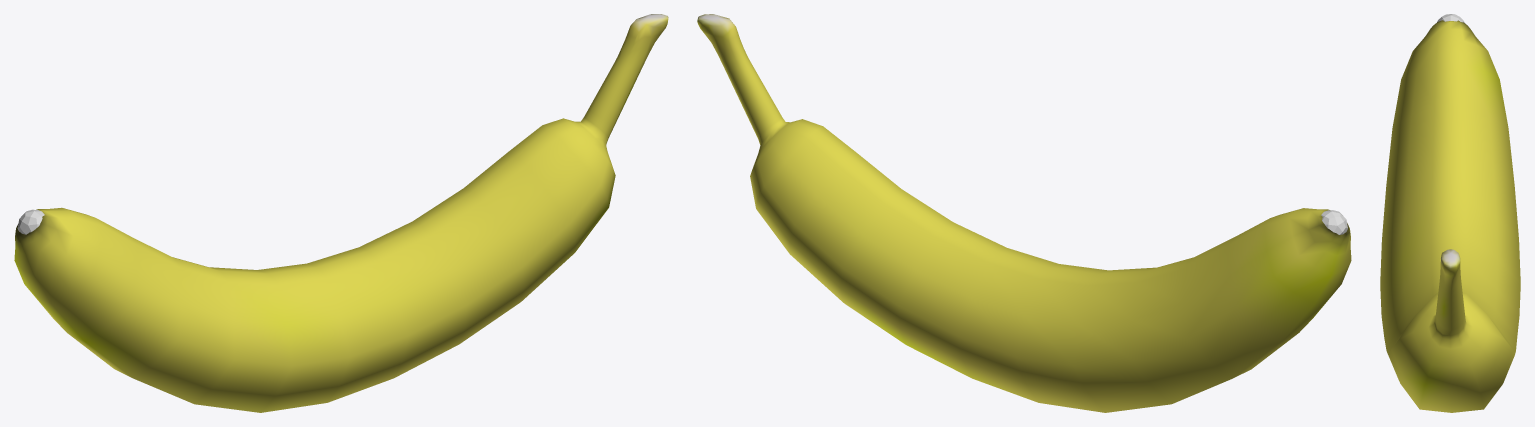
The model's file is Banana.fbx.
3 renders of one model, left to right at view 1: azimuth 30°, elevation 25°; view 2: azimuth 150°, elevation 25°; view 3: azimuth 270°, elevation 25°, orthographic. The views are drawn at different scales.
Visible parts, largest first — view 1: Banana; view 2: Banana; view 3: Banana, Tip.
Part boxes in pixels (x1=…): Banana: x1=14, y1=14, x2=668, y2=412; Banana: x1=697, y1=14, x2=1351, y2=412; Banana: x1=1380, y1=20, x2=1520, y2=412; Tip: x1=1437, y1=14, x2=1464, y2=22.
Bounding box in the file's own units: 31.56 × 13.58 × 6.34.
